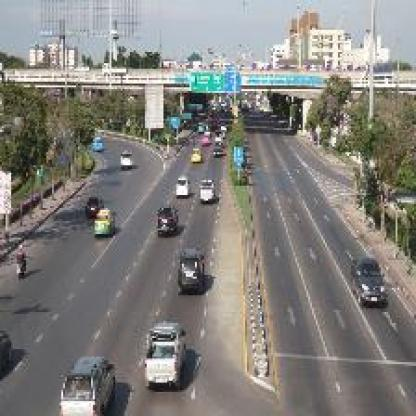other: (181, 142, 208, 169)
